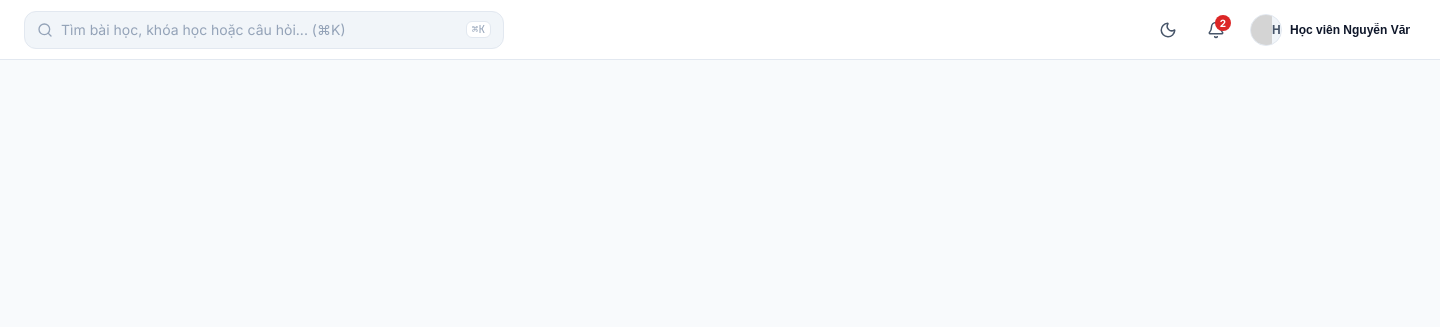
Test case: Topbar Header & Authentication Navigation (P20-000) › Authenticated Role-Specific Navigation › shows "Bảng điều khiển học tập" inside dropdown for learner and hides "Trang quản trị"
Step 1. Click the button with aria-label "Menu tài khoản" → (1330, 30), box [1244,10,1416,50]
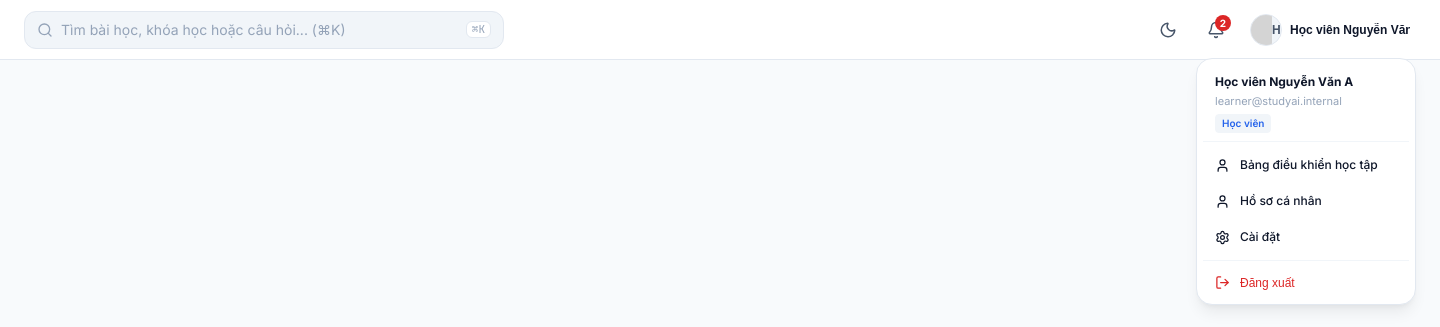
expect the menu item "Bảng điều khiển học tập" is shown: met, box [1215,157,1378,172]
expect the text "Học viên" is shown: met, box [1215,114,1271,133]
